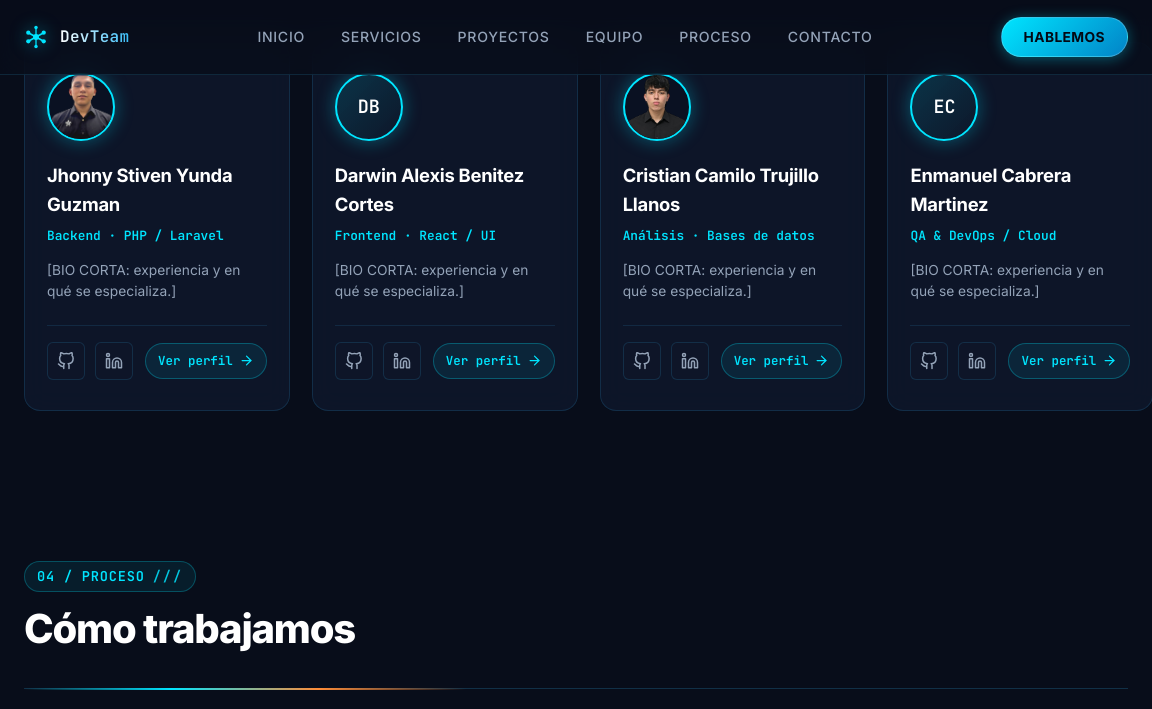
Test: opens developer profile in the same page without target="_blank"
(page scrolled)
Expected: the text "Ver perfil" is shown 4 times, [158,351,233,371]; [446,351,521,371]; [734,351,808,371]; [1022,351,1096,371]
Click the link with aria-label "ver apartado de jhonny stiven yunda guzman".
click(206, 361)  # box [145,343,267,379]
(page scrolled)
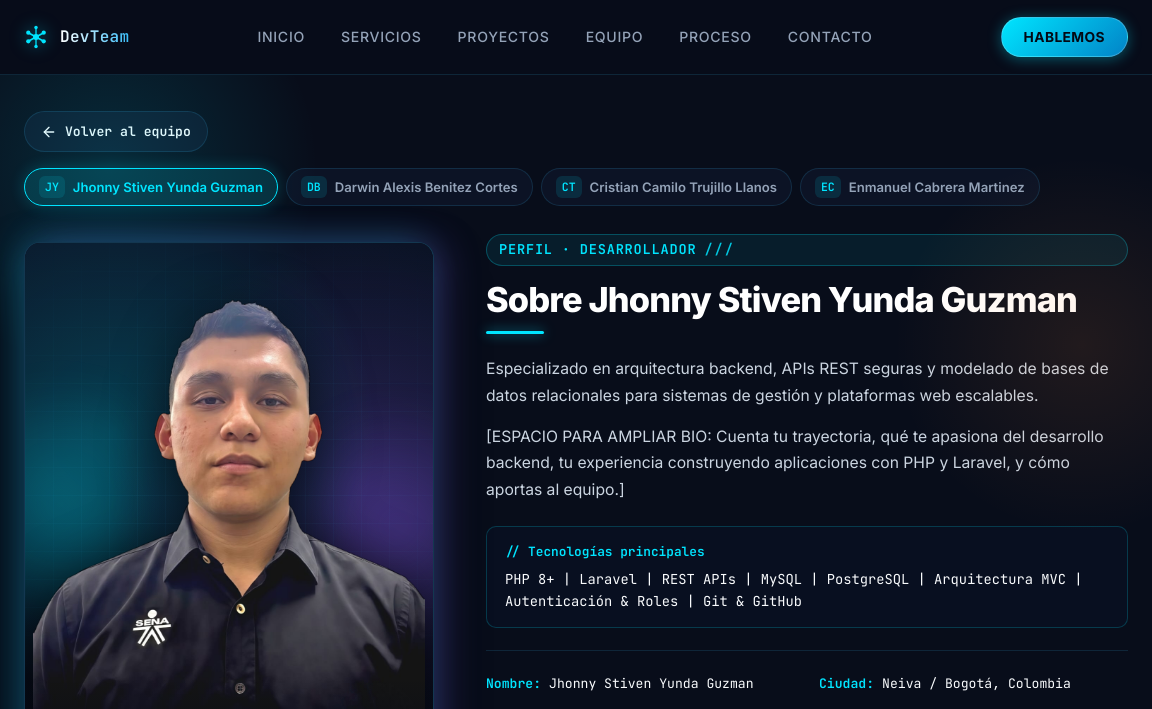
Expected: the heading "Sobre Jhonny Stiven Yunda Guzman" is shown, [486,280,1128,319]
Expected: the text "// Tecnologías principales" is shown, [505,543,705,560]
Click the link "Volver al equipo".
click(116, 132)  # box [24,111,208,152]
(page scrolled)
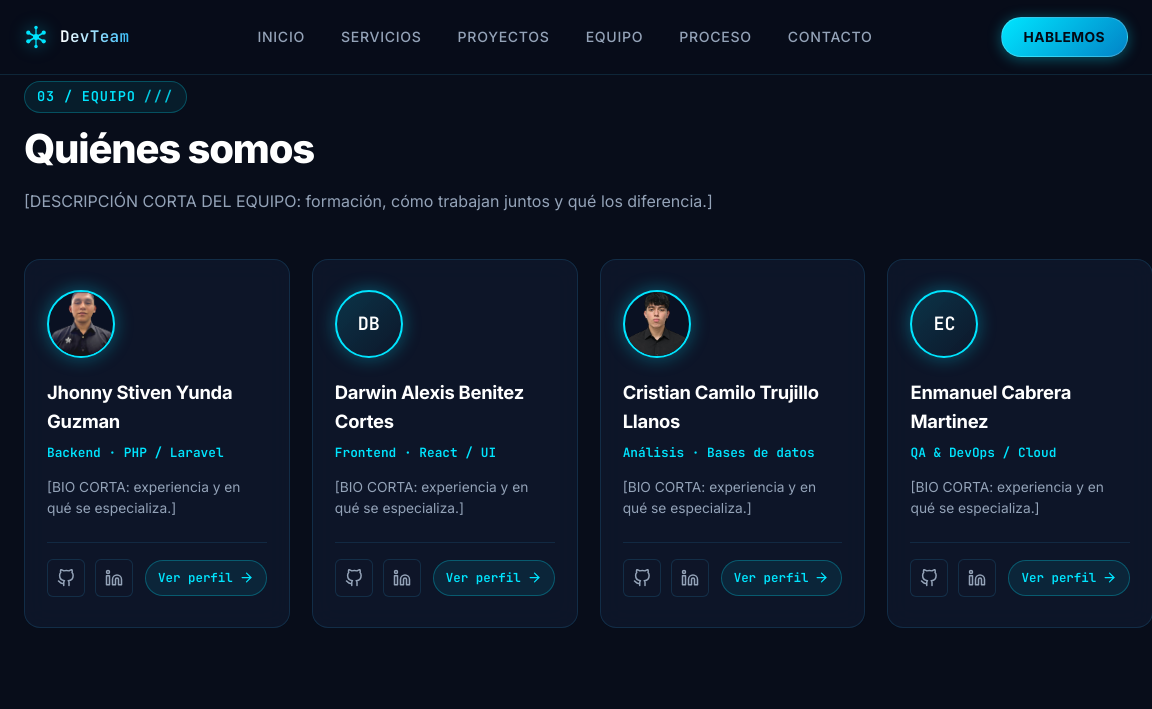
Expected: the heading "Quiénes somos" is shown, [24,124,314,173]
